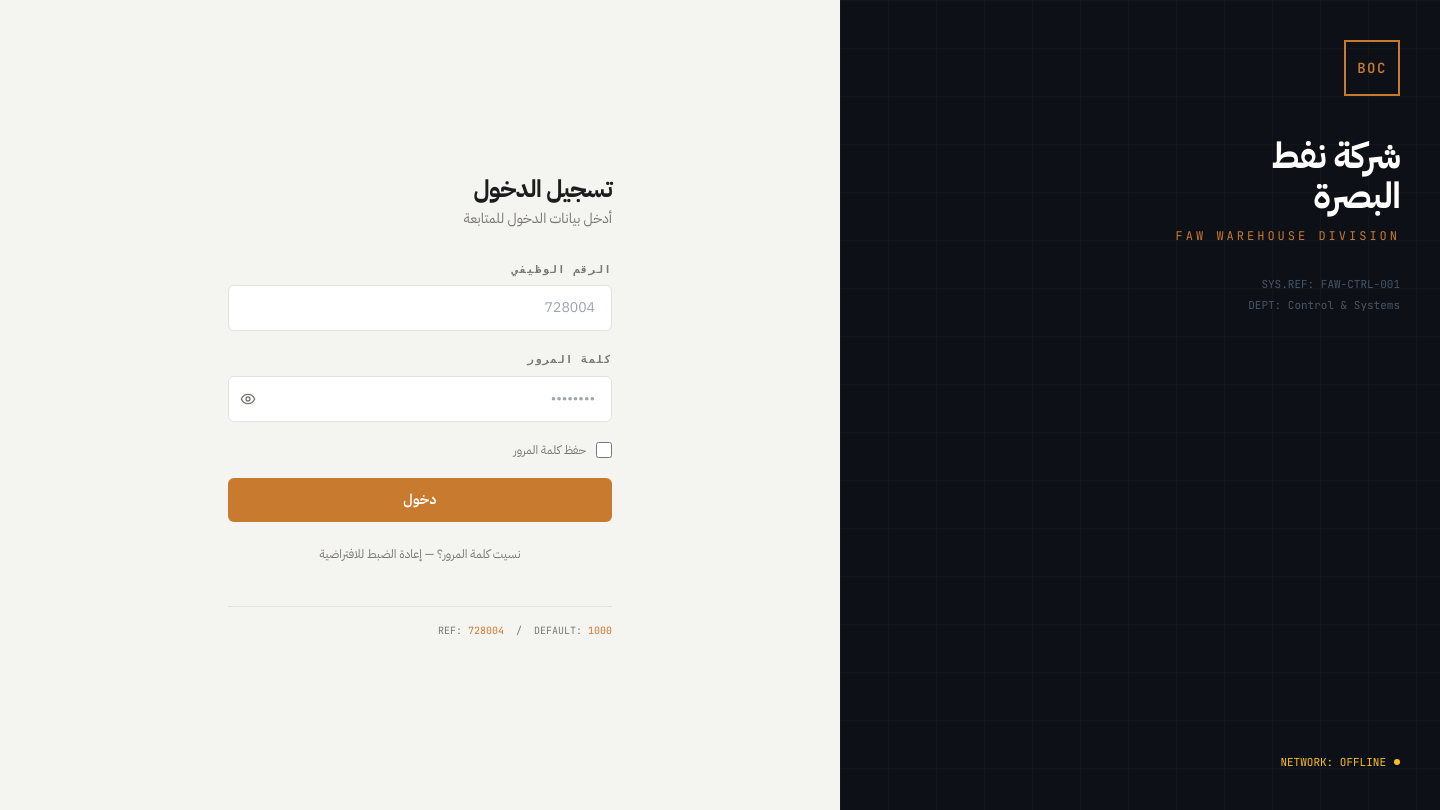
it: Login Screen — authentication (offline) › unknown job number shows "الرقم الوظيفي غير موجود"
In the field with placeholder "728004": {"x": 420, "y": 308} [228,285,612,331], type "000000"
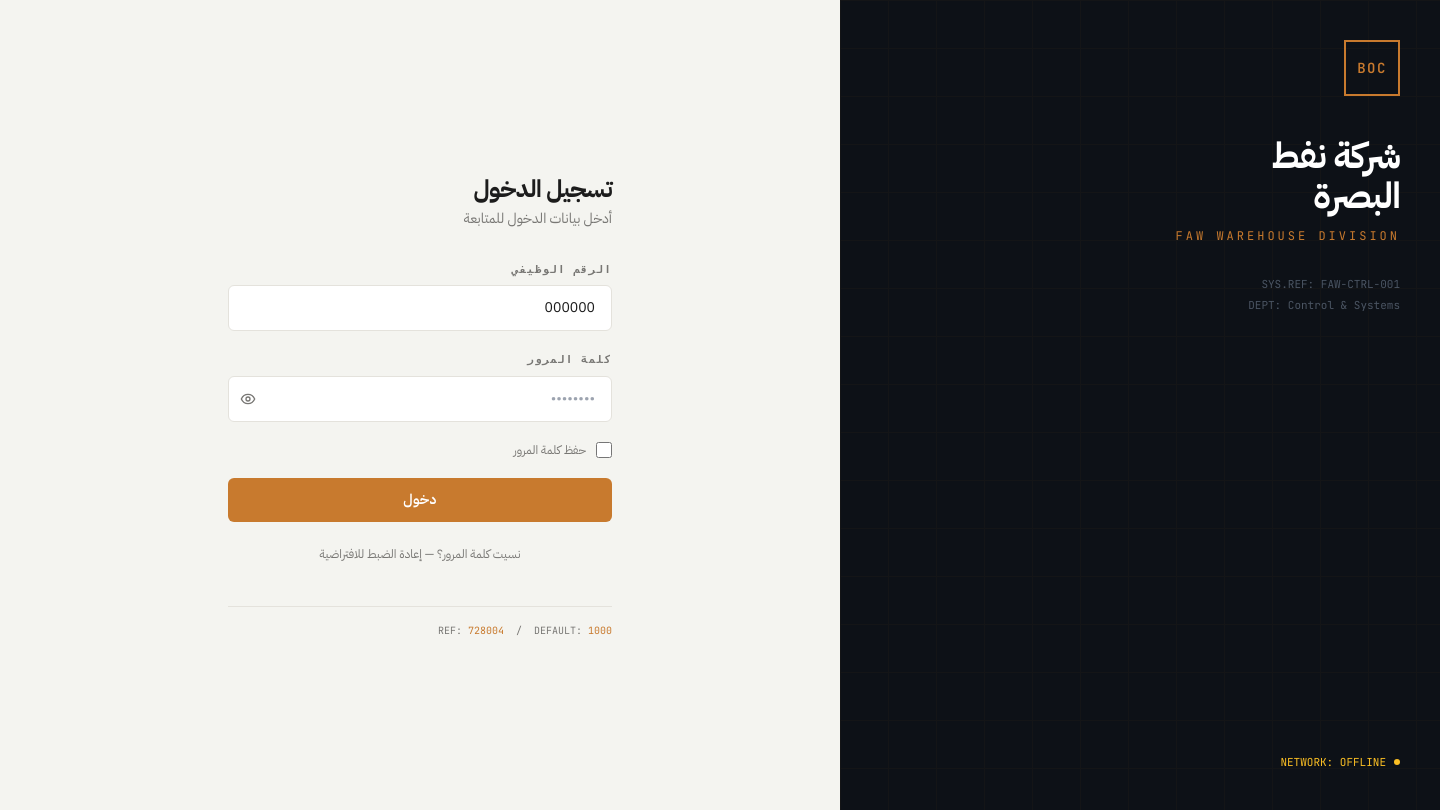
In the password field with placeholder "••••••••": {"x": 420, "y": 398} [228,376,612,422], type "1000"
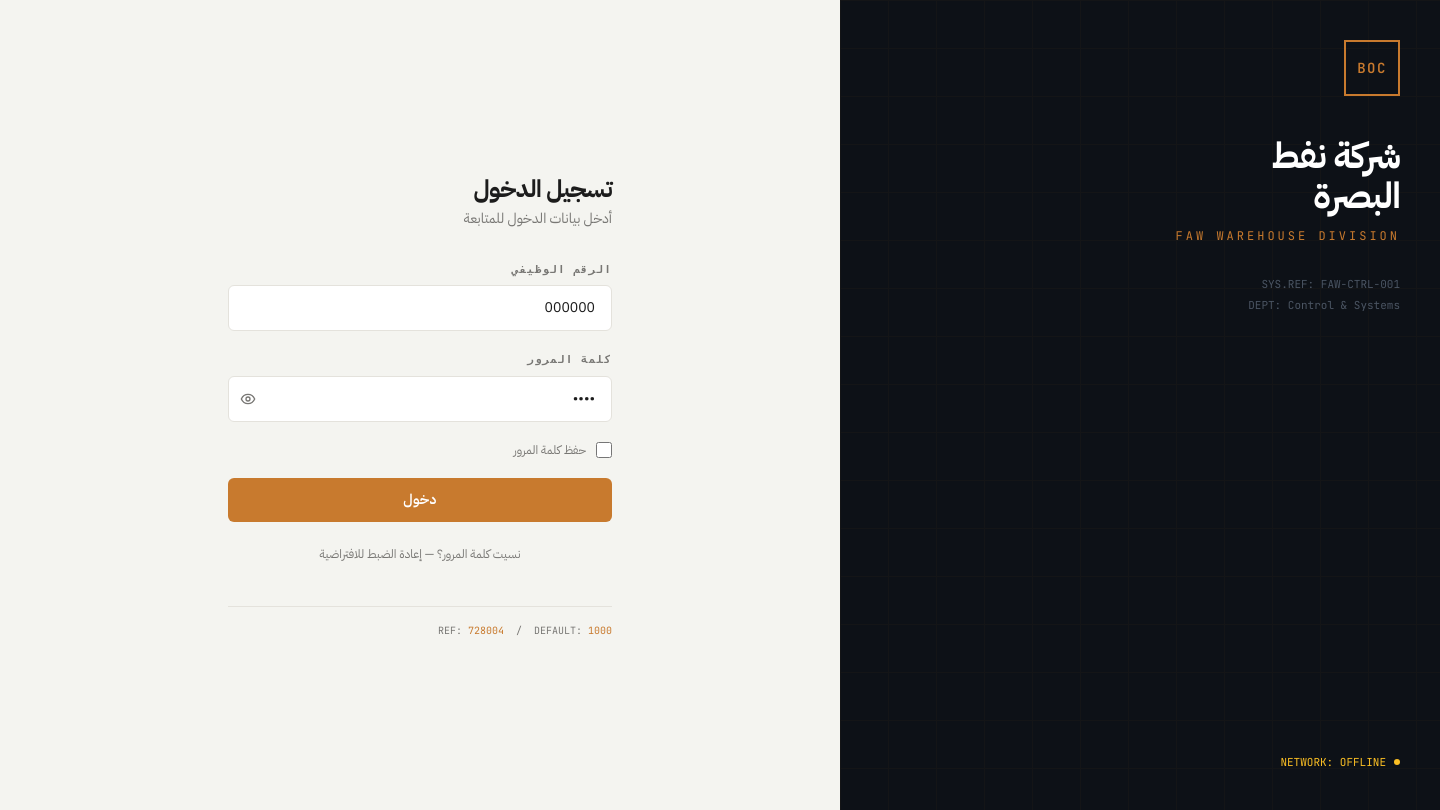
Click the button "دخول": {"x": 420, "y": 500} [228,478,612,522]
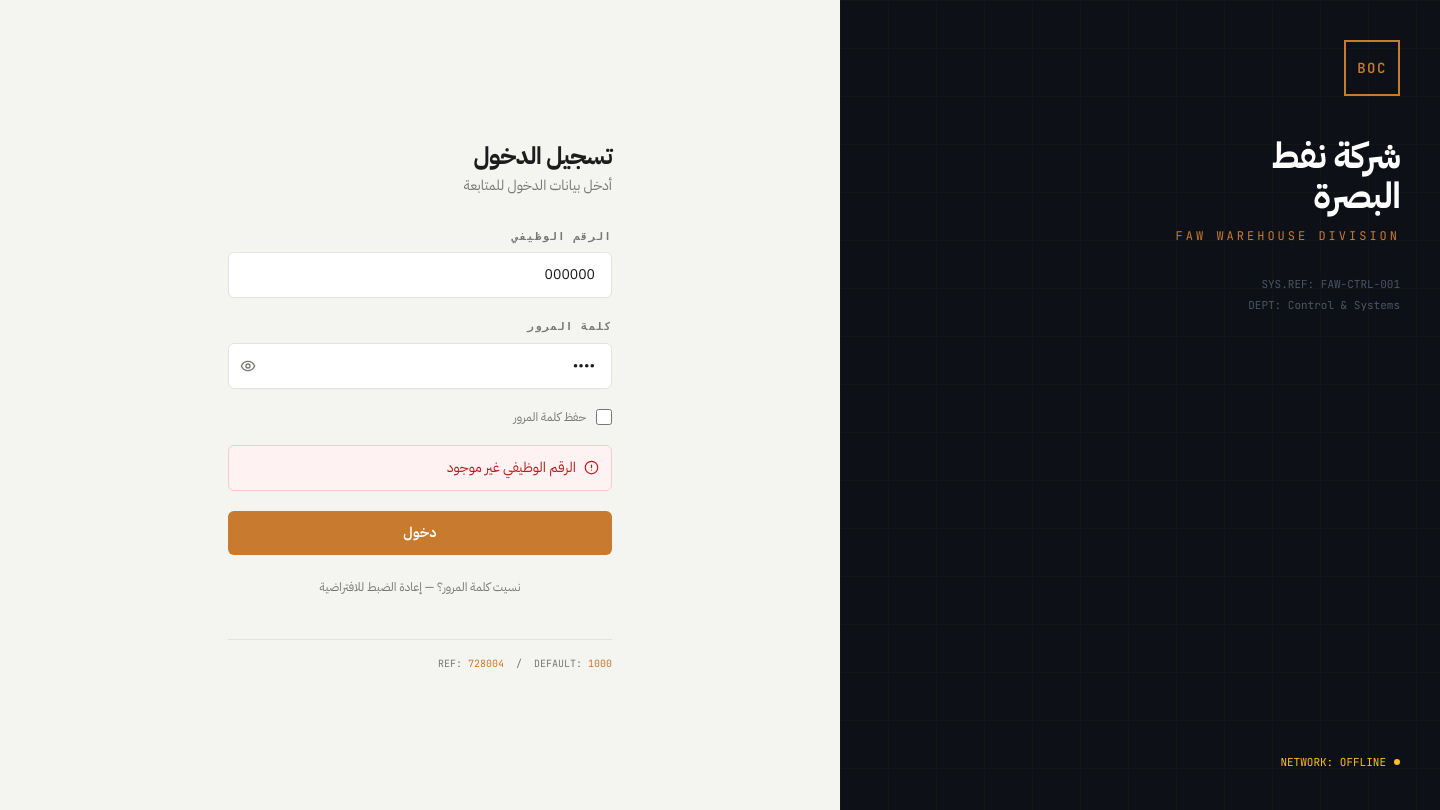
Expected: the text "الرقم الوظيفي غير موجود" is shown, [228,444,612,490]
